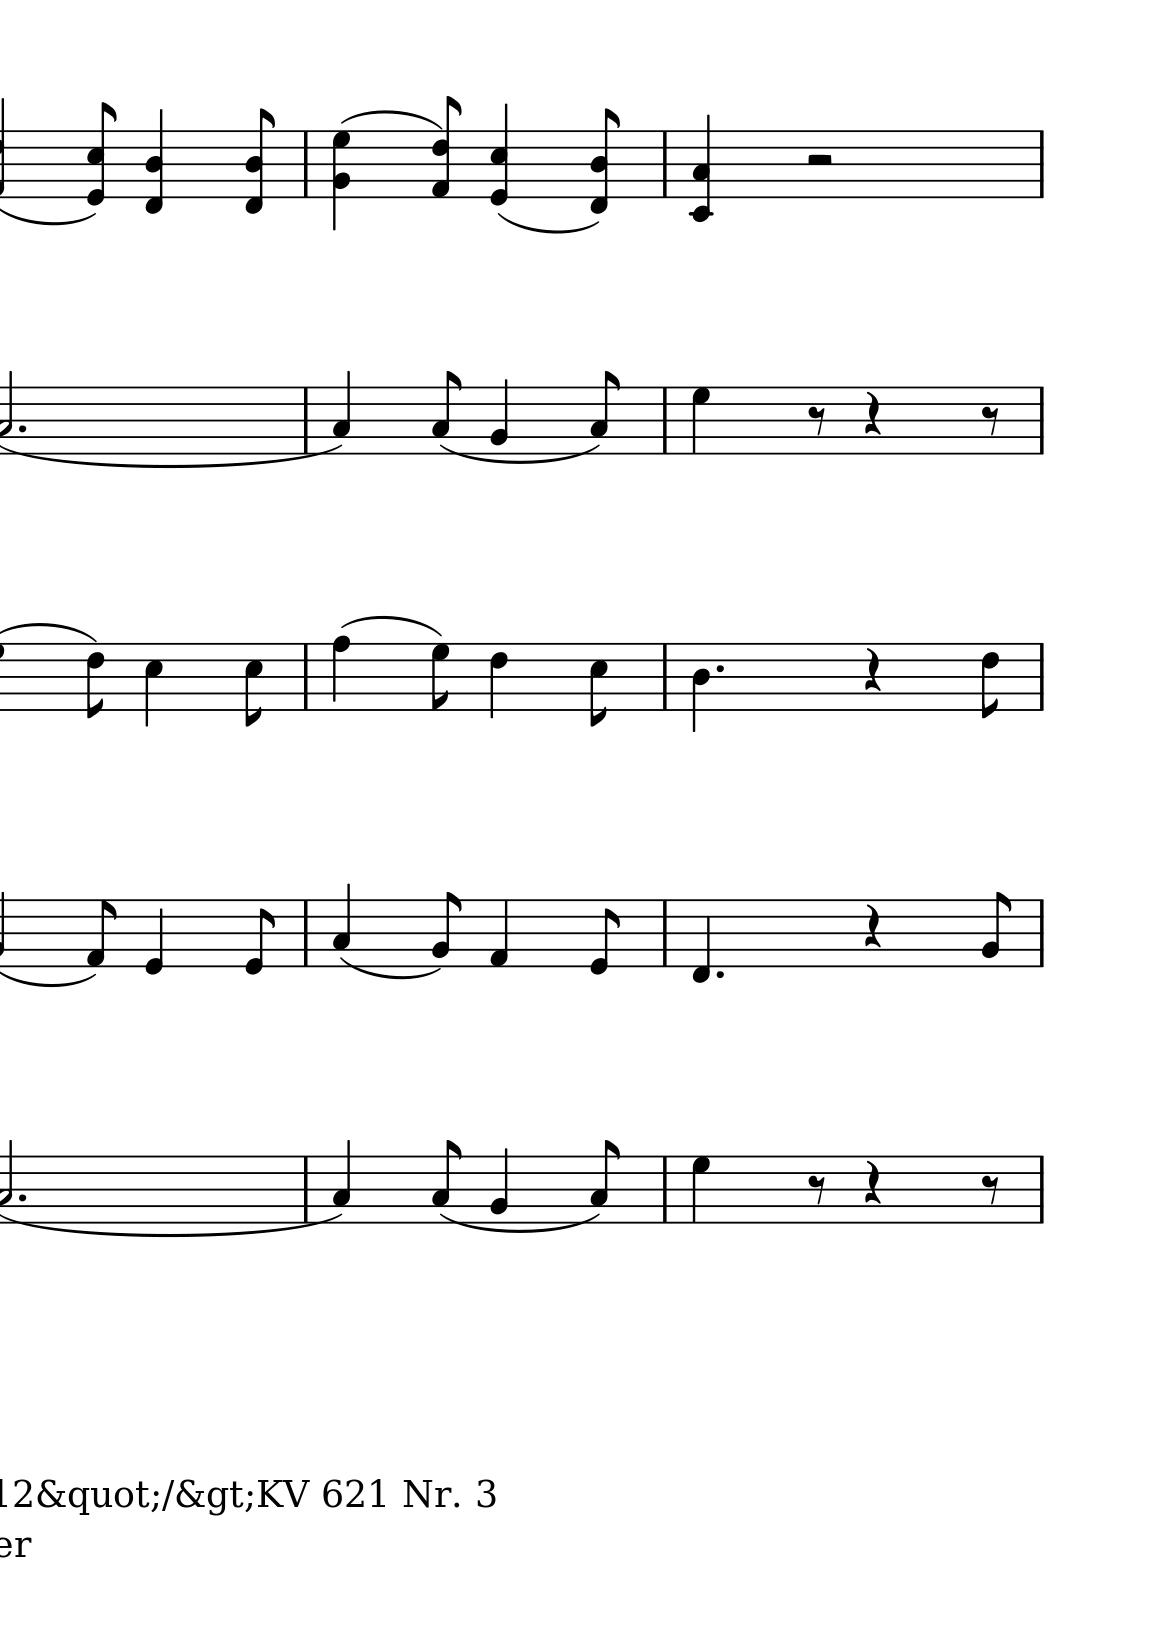4_-1: (689, 897, 711, 984)
4_-1_4: (145, 107, 165, 216)
4_-2_3: (688, 115, 716, 223)
4_0: (141, 898, 165, 977)
4_0_5: (487, 102, 511, 206)
4_1: (486, 898, 509, 970)
4_2: (487, 376, 510, 454), (487, 1146, 509, 1222)
4_2_7: (330, 128, 355, 229)
4_3: (330, 369, 352, 456), (330, 1138, 352, 1224), (330, 884, 352, 968)
4_4: (689, 642, 709, 735)
4_5: (142, 641, 163, 730)
4_6: (487, 642, 507, 722)
4_7: (688, 1153, 713, 1225), (689, 384, 713, 456)
4_8: (328, 633, 352, 713)
8_-1_4: (588, 105, 622, 216), (246, 108, 277, 216)
8_0: (242, 898, 274, 976), (587, 898, 620, 976)
8_0_5: (86, 100, 118, 209)
8_1: (84, 897, 117, 970)
8_1_6: (431, 95, 463, 199)
8_2: (429, 890, 460, 968), (980, 890, 1010, 970)
8_3: (429, 369, 461, 457), (429, 1139, 461, 1226), (588, 369, 620, 455), (588, 1138, 620, 1224)
8_5: (242, 641, 263, 728), (587, 641, 608, 728)
8_6: (977, 642, 1000, 722), (84, 642, 105, 722)
8_7: (429, 642, 450, 713)
Rests2: (802, 152, 837, 169)
Rests4: (862, 390, 881, 437), (862, 646, 881, 693), (862, 902, 881, 950), (862, 1159, 881, 1206)
Rests8: (979, 1173, 1002, 1208), (805, 404, 828, 439), (805, 1173, 828, 1208), (980, 404, 1002, 437)
Single_barline: (1031, 131, 1050, 198), (656, 386, 674, 454), (297, 643, 315, 710), (295, 898, 314, 965), (656, 1156, 674, 1222), (1032, 643, 1050, 712), (656, 131, 673, 198), (1032, 900, 1050, 967), (297, 131, 314, 197), (297, 388, 314, 454), (297, 1156, 314, 1221), (1034, 388, 1050, 454), (1034, 1156, 1050, 1222), (656, 901, 672, 966)
Slur: (1, 444, 342, 471), (1, 1214, 343, 1240), (434, 442, 600, 466), (439, 1214, 587, 1236), (337, 955, 440, 981), (339, 616, 443, 638), (499, 213, 597, 236), (1, 621, 98, 643), (339, 110, 441, 130), (1, 204, 97, 226), (1, 970, 96, 988), (656, 643, 672, 712)
dot: (15, 421, 29, 437), (15, 1190, 27, 1206), (712, 662, 726, 675), (713, 970, 726, 981)
